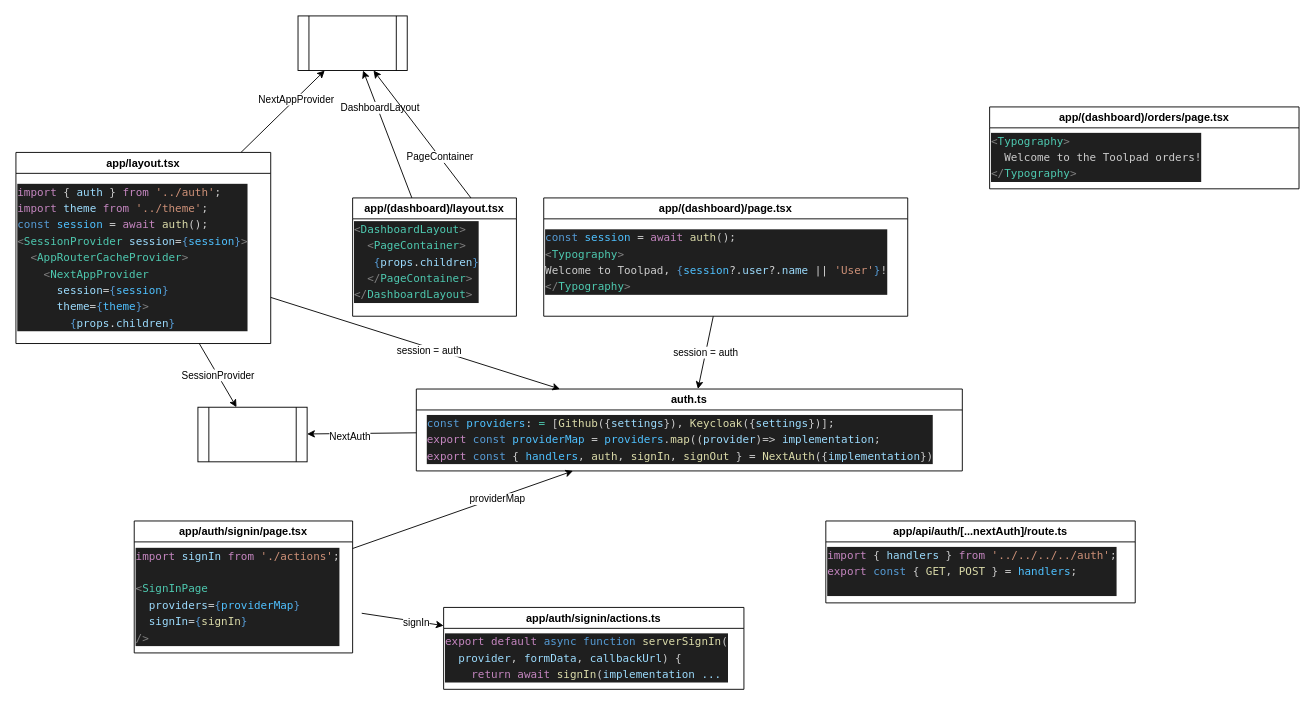
This 1315x705 diagram has some shape labels left out. Here are the shapes that lost their labels. From the top down, the centre of each, then its label:
At (352,43): "@toolpad/core".
At (252,434): "next-auth/react".
